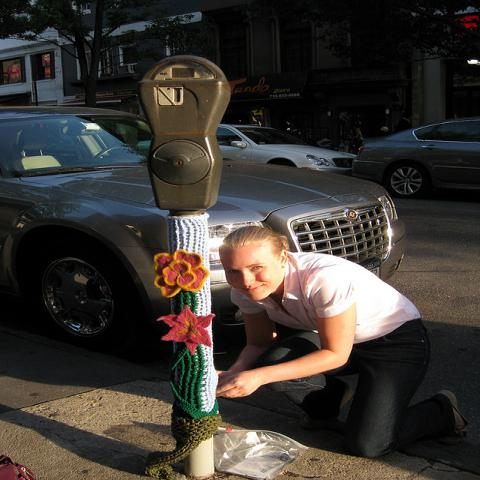car: (0, 104, 401, 365), (356, 116, 479, 205), (217, 124, 358, 178)
